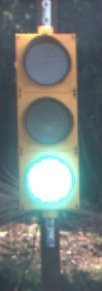Green: (7, 22, 85, 233)
